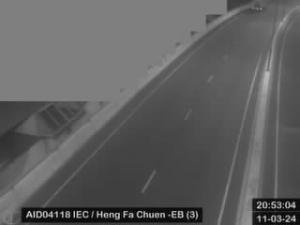vehicle: (252, 0, 266, 10)
